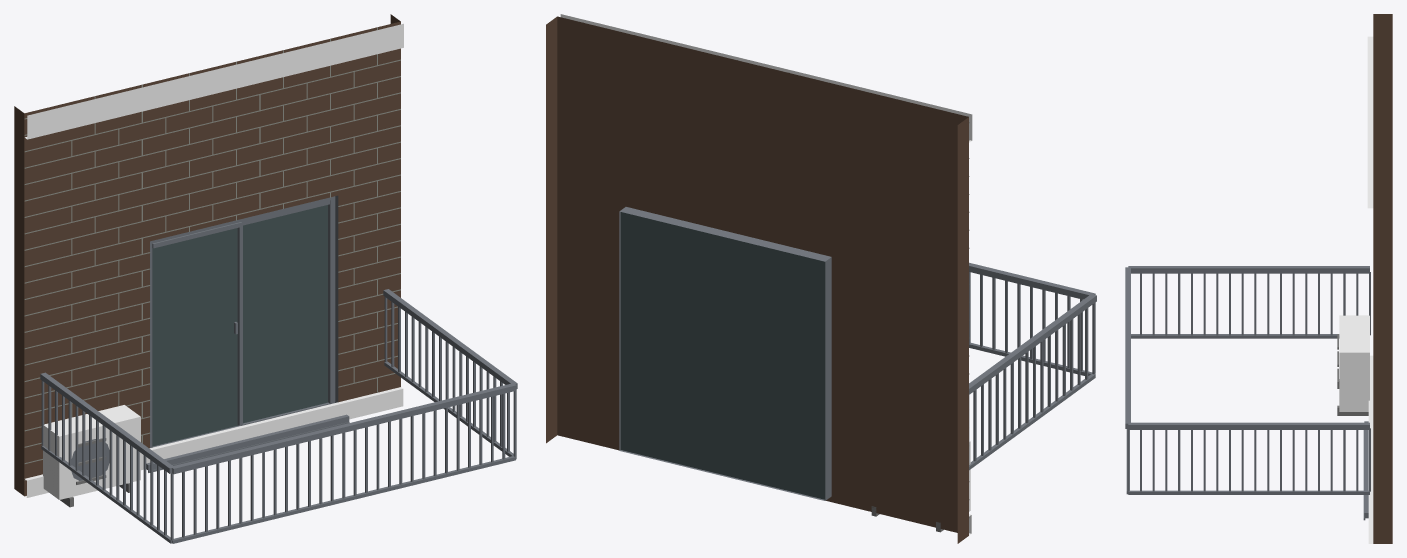
File: top-stair3_close.fbx
The picture shows the model from 3 angles, left to right: view 1: azimuth 30°, elevation 25°; view 2: azimuth 150°, elevation 25°; view 3: azimuth 270°, elevation 25°; orthographic projection. The views are drawn at different scales.
Visible parts, largest first — view 1: a2000s3/800/top-stair_close; view 2: a2000s3/800/top-stair_close; view 3: a2000s3/800/top-stair_close.
Part boxes in pixels (x1,y1,x2,y2): a2000s3/800/top-stair_close: (14,14,517,543); a2000s3/800/top-stair_close: (546,14,1096,543); a2000s3/800/top-stair_close: (1125,14,1392,543).
Size of the model in its own units: 3.6 by 3.53 by 2.37.
